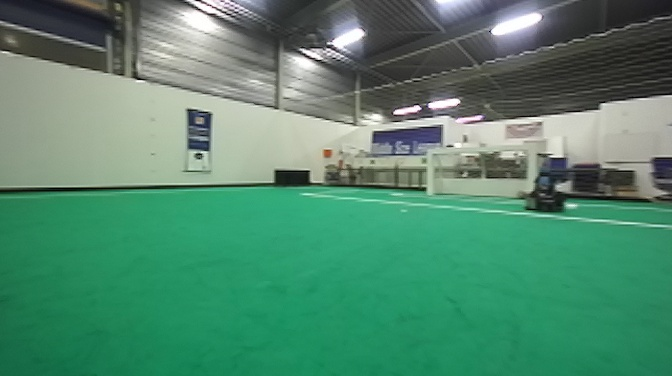goal: (423, 146, 539, 204)
robot: (524, 147, 568, 216)
